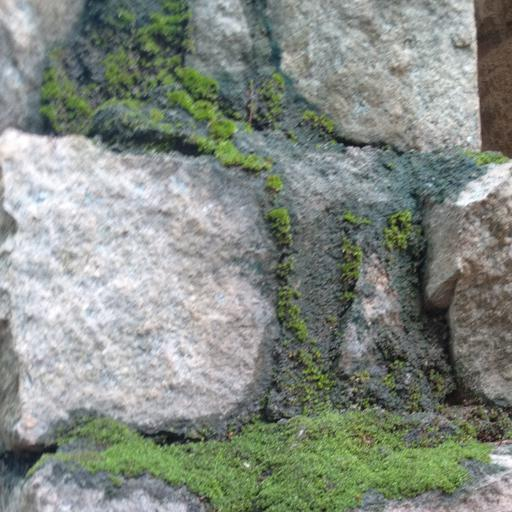algae: (56, 326, 512, 512)
